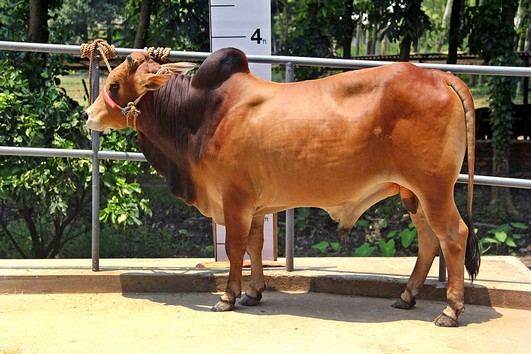cow: (79, 40, 488, 333)
